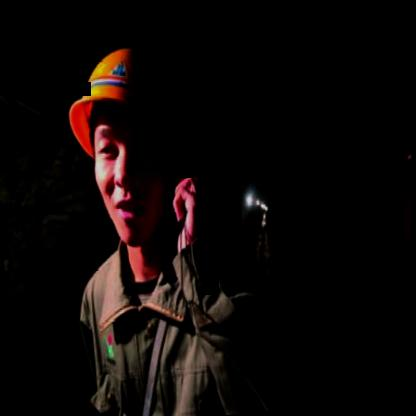helmet: (57, 18, 212, 266)
